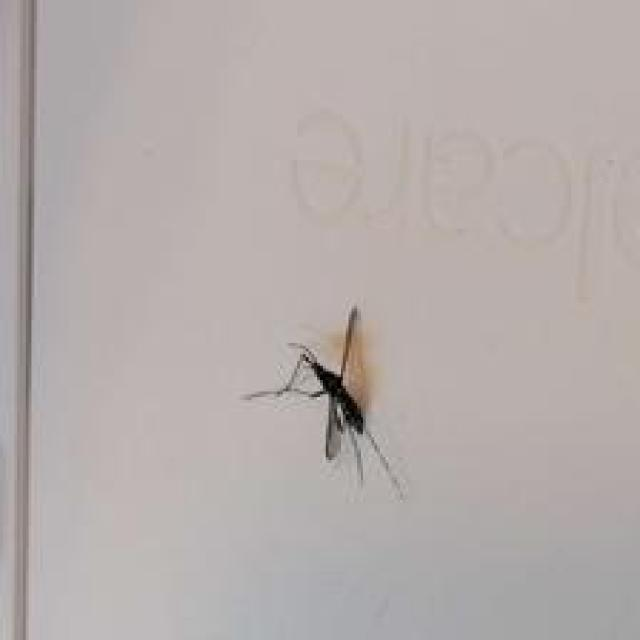Aedes albopictus: (242, 303, 407, 500)
